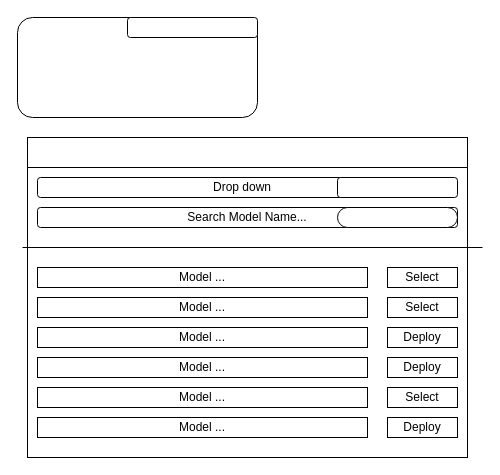
Image size: 500x475. Some labels were removed from this diagram. Each missing label, with the centre of its shape:
"Filter Model Type" belongs at (x=397, y=187).
"Online | verified" belongs at (x=192, y=27).
"Search" belongs at (x=397, y=217).
"Select Model" belongs at (x=247, y=152).
